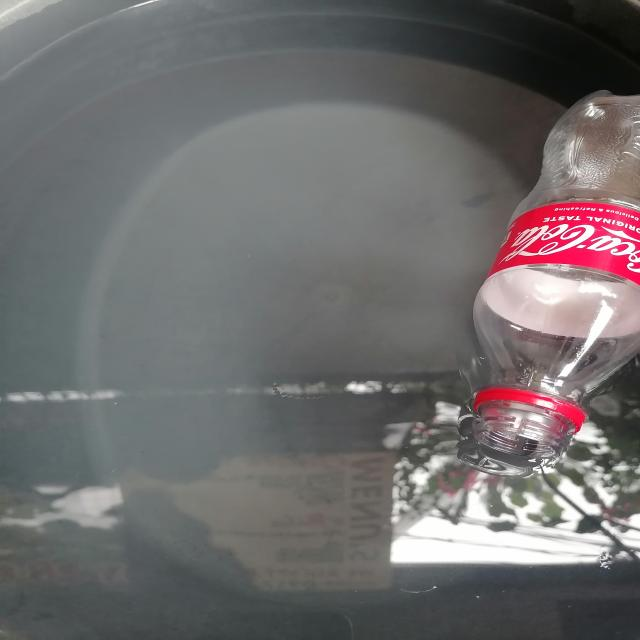Plastic Bottle: (458, 91, 640, 478)
